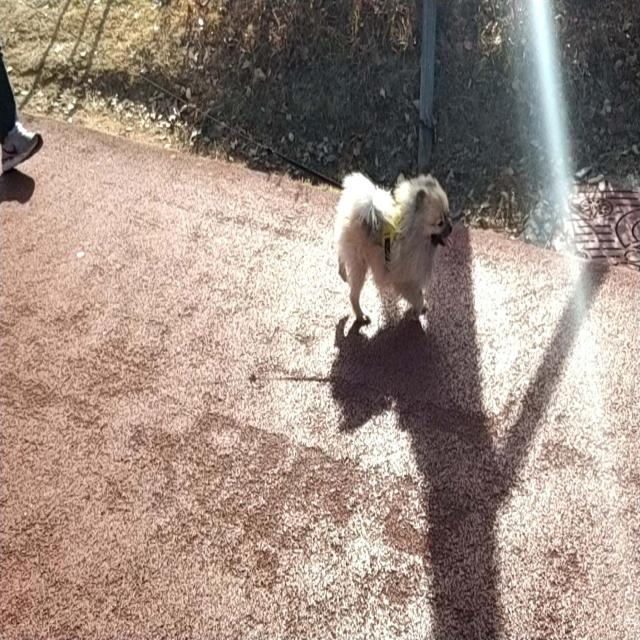Dog: (334, 173, 452, 331)
